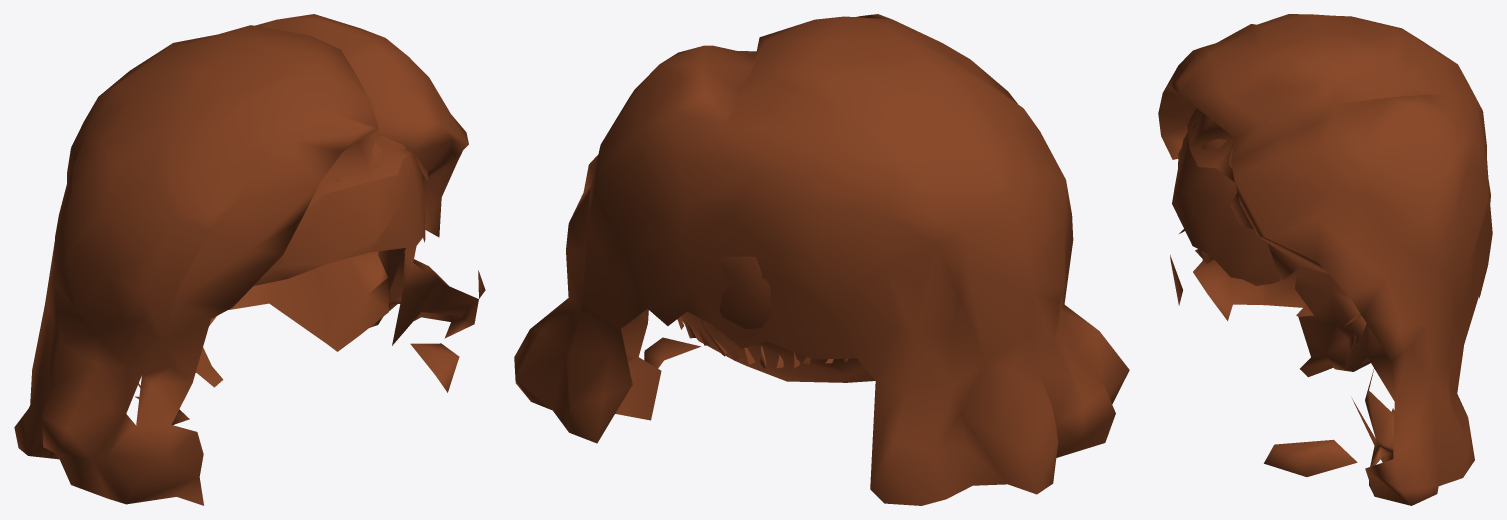
Rendered from long-wavy.glb.
3 renders of one model, left to right at view 1: azimuth 30°, elevation 25°; view 2: azimuth 150°, elevation 25°; view 3: azimuth 270°, elevation 25°, orthographic. The views are drawn at different scales.
Parts seen in each view (by area): view 1: Hair, HairScalp; view 2: Hair, HairScalp, HairPulledRootStrands; view 3: Hair, HairScalp.
Boxes of the visible parts, x1=… form: Hair: x1=14, y1=14, x2=485, y2=505; HairScalp: x1=195, y1=136, x2=425, y2=387; Hair: x1=514, y1=14, x2=1129, y2=505; HairScalp: x1=680, y1=256, x2=874, y2=382; HairPulledRootStrands: x1=677, y1=315, x2=848, y2=368; Hair: x1=1158, y1=14, x2=1492, y2=505; HairScalp: x1=1172, y1=119, x2=1490, y2=377.
Bounding box in the file's own units: 0.7414 × 0.5177 × 0.4375.
